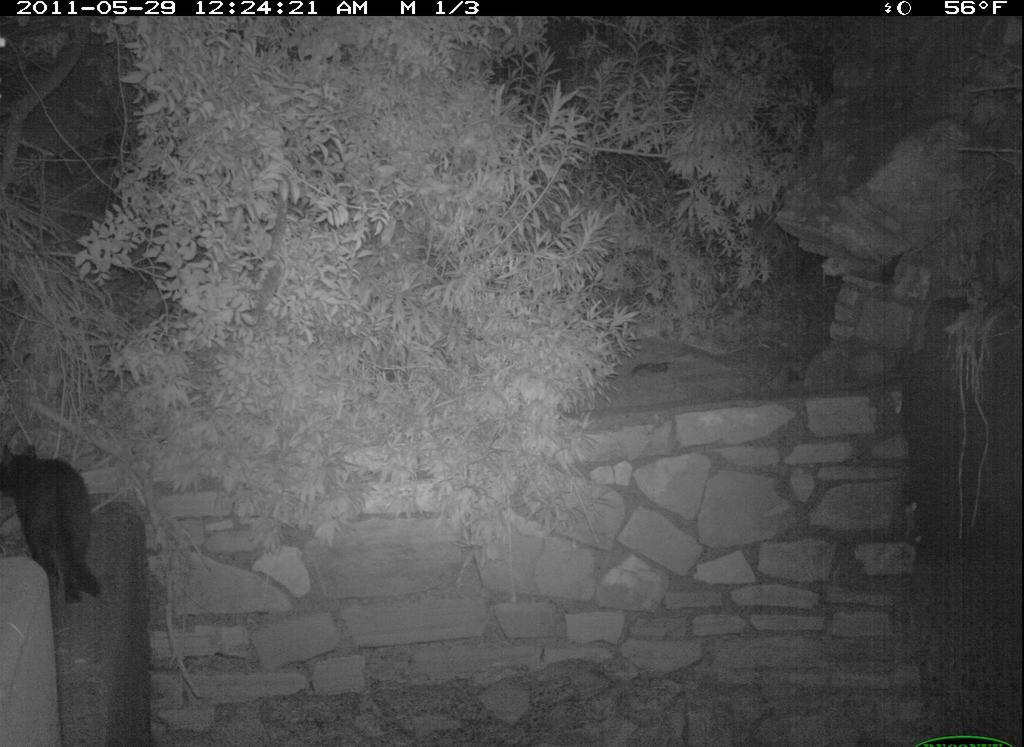cat: (7, 429, 116, 623)
